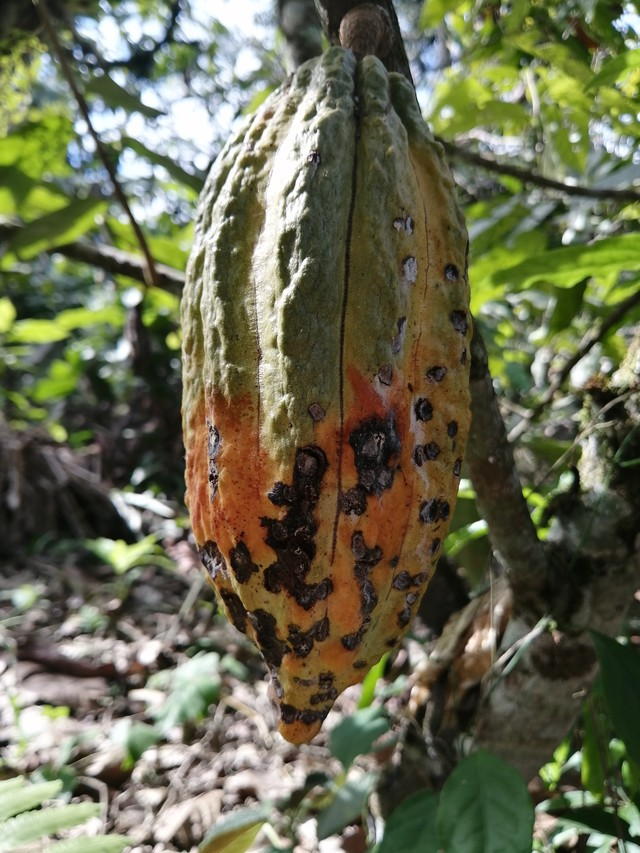moniliophthora perniciosa: (164, 43, 487, 749)
